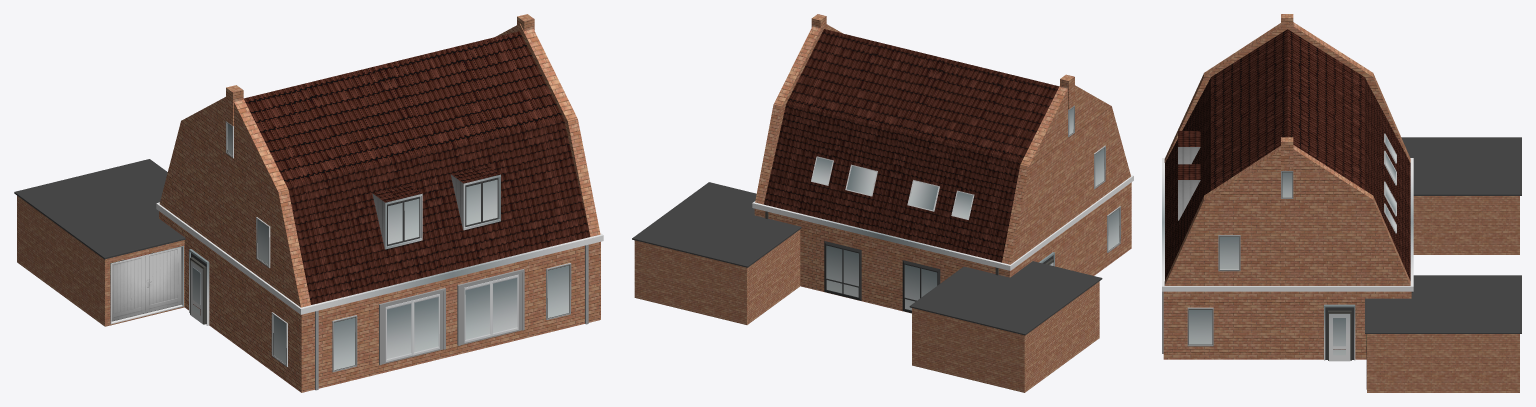
Rendered from Woning Hameie type 3.fbx.
3 views of the same model, side by side, from view 1: azimuth 30°, elevation 25°; view 2: azimuth 150°, elevation 25°; view 3: azimuth 270°, elevation 25° (orthographic). The views are drawn at different scales.
Visible parts, largest first — view 1: Woning_Hameie_type_3; view 2: Woning_Hameie_type_3; view 3: Woning_Hameie_type_3.
Boxes of the visible parts, x1,y1,x2,y2 form: Woning_Hameie_type_3: [14, 14, 603, 392]; Woning_Hameie_type_3: [632, 14, 1133, 392]; Woning_Hameie_type_3: [1162, 14, 1521, 392].
Bounding box in the file's own units: 18.81 × 9.79 × 14.63.
